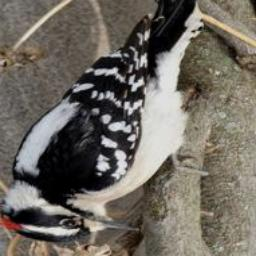Woodpecker: (0, 0, 206, 244)
